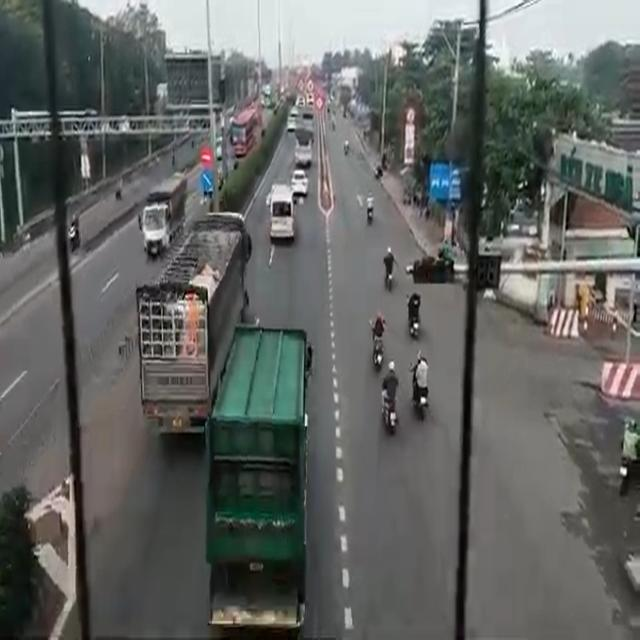bus: (231, 101, 258, 162)
car: (269, 184, 293, 242), (292, 160, 306, 202)
motor: (404, 291, 424, 343), (414, 360, 429, 425), (367, 316, 384, 372), (382, 380, 398, 434), (382, 252, 397, 292)
truck: (216, 327, 308, 614), (140, 208, 250, 418), (142, 180, 184, 244)
